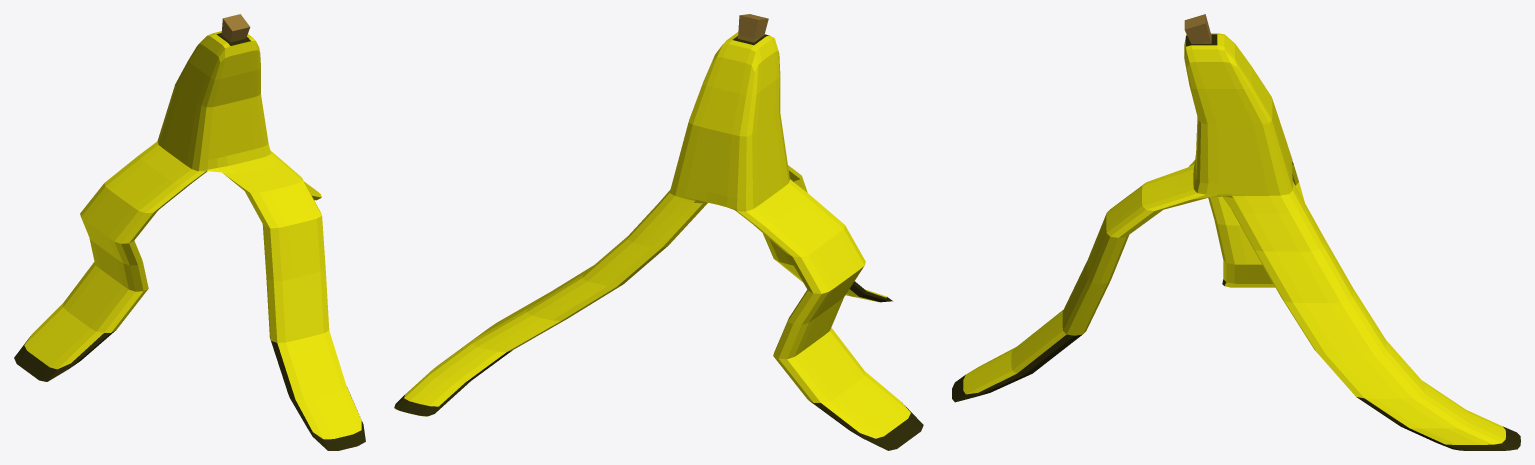
File: Banana.fbx
3 renders of one model, left to right at view 1: azimuth 30°, elevation 25°; view 2: azimuth 150°, elevation 25°; view 3: azimuth 270°, elevation 25°, orthographic. The views are drawn at different scales.
Parts seen in each view (by area): view 1: Cube, Cube.001; view 2: Cube, Cube.001; view 3: Cube, Cube.001.
Boxes of the visible parts, x1,y1,x2,y2 form: Cube: [14, 31, 365, 450]; Cube.001: [221, 14, 250, 42]; Cube: [394, 32, 923, 450]; Cube.001: [737, 14, 768, 42]; Cube: [952, 33, 1520, 450]; Cube.001: [1184, 14, 1211, 43].
Bounding box in the file's own units: 944 × 850 × 1167.
